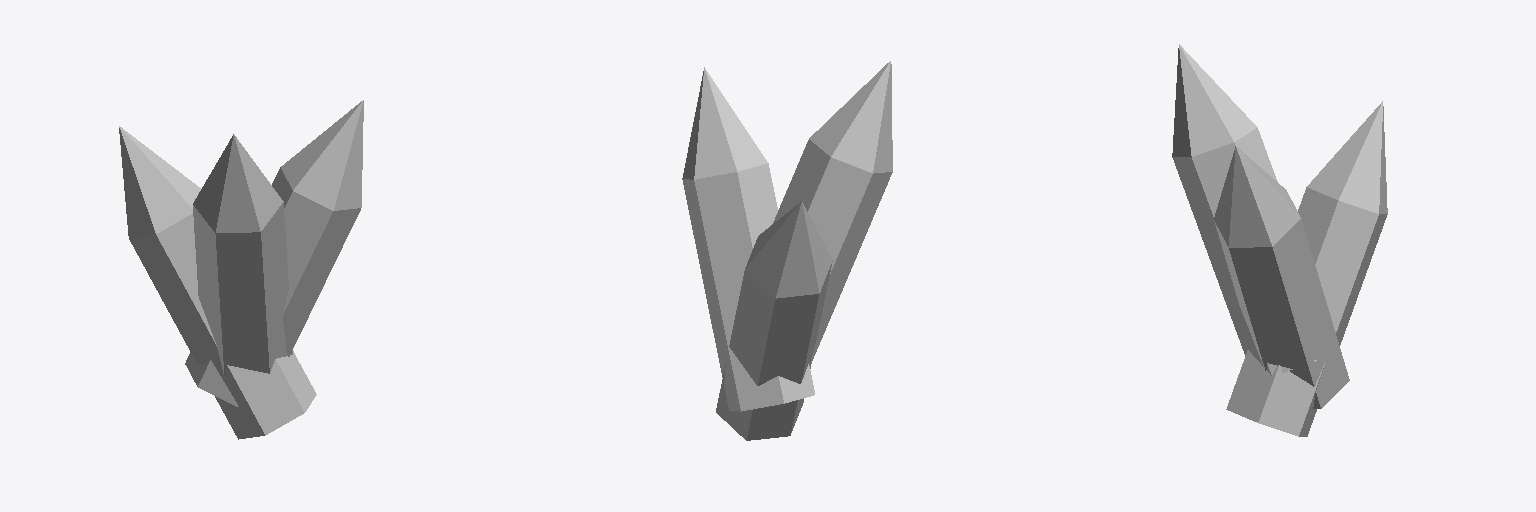
Rendered from crystal.obj.
3 views of the same model, side by side, from view 1: azimuth 30°, elevation 25°; view 2: azimuth 150°, elevation 25°; view 3: azimuth 270°, elevation 25° (orthographic).
Parts seen in each view (by area): view 1: Cylinder.001; view 2: Cylinder.001; view 3: Cylinder.001.
Boxes of the visible parts, x1,y1,x2,y2 form: Cylinder.001: [119, 100, 363, 439]; Cylinder.001: [682, 61, 892, 440]; Cylinder.001: [1172, 44, 1387, 436].
Bounding box in the file's own units: 3.48 × 6.59 × 3.63.